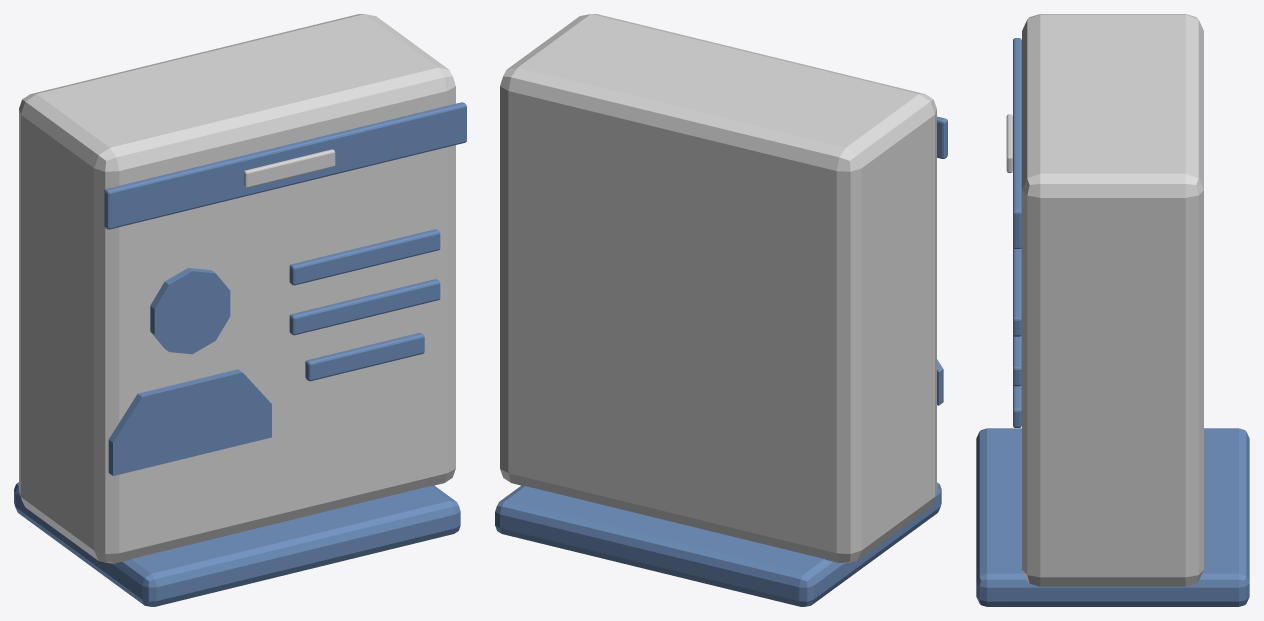
The model's file is identity.glb.
3 views of the same model, side by side, from view 1: azimuth 30°, elevation 25°; view 2: azimuth 150°, elevation 25°; view 3: azimuth 270°, elevation 25° (orthographic).
Visible parts, largest first — view 1: badge, stand, lanyard-strip, shoulders, head, line.1, line.0, line.2, slot; view 2: badge, stand; view 3: badge, stand, lanyard-strip, line.0, line.1, slot, line.2.
Boxes of the visible parts, x1=… form: badge: x1=19, y1=14, x2=455, y2=563; stand: x1=14, y1=482, x2=460, y2=606; lanyard-strip: x1=104, y1=102, x2=466, y2=229; shoulders: x1=108, y1=369, x2=271, y2=475; head: x1=150, y1=268, x2=230, y2=354; line.1: x1=289, y1=279, x2=440, y2=335; line.0: x1=289, y1=229, x2=440, y2=285; line.2: x1=305, y1=333, x2=424, y2=381; slot: x1=243, y1=149, x2=335, y2=187; badge: x1=500, y1=14, x2=936, y2=563; stand: x1=495, y1=482, x2=941, y2=606; badge: x1=1022, y1=14, x2=1203, y2=586; stand: x1=976, y1=428, x2=1249, y2=606; lanyard-strip: x1=1013, y1=38, x2=1021, y2=248; line.0: x1=1013, y1=248, x2=1021, y2=336; line.1: x1=1013, y1=335, x2=1021, y2=386; slot: x1=1006, y1=114, x2=1012, y2=172; line.2: x1=1013, y1=384, x2=1021, y2=427.
Size of the model in its own units: 1.36 by 1.6 by 0.9.
